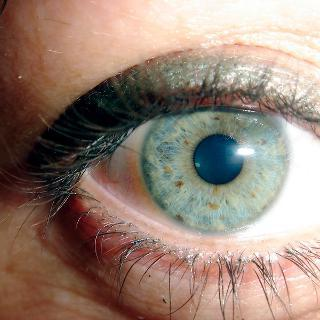pupil: (192, 134, 244, 185)
